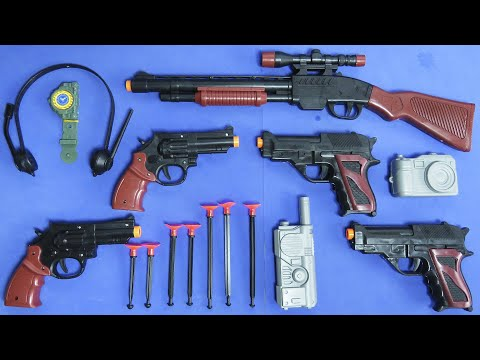Arma Falsa: (125, 47, 474, 146), (1, 214, 145, 309), (346, 216, 480, 315), (255, 127, 388, 216), (112, 125, 243, 212)
